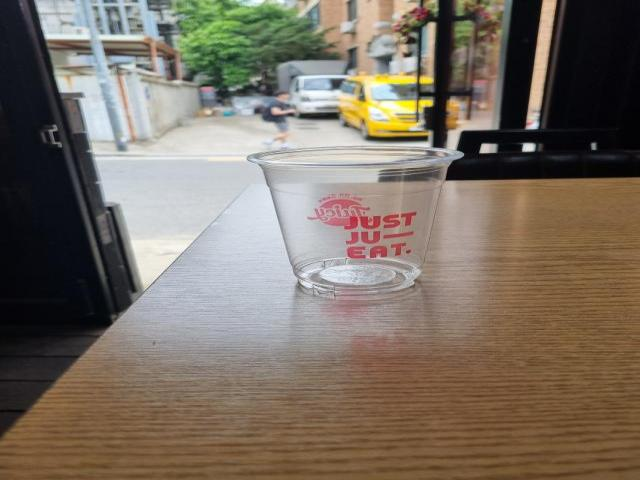cup: (239, 140, 473, 298)
